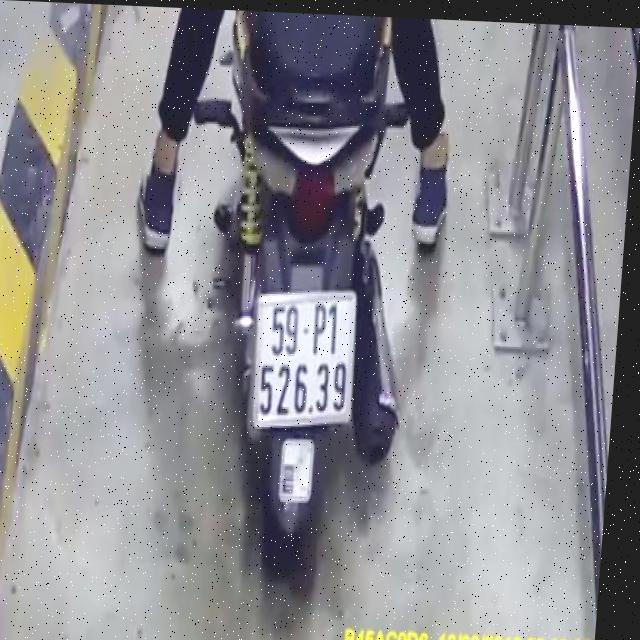motorcycle: (158, 15, 444, 588)
plate: (242, 287, 367, 438)
